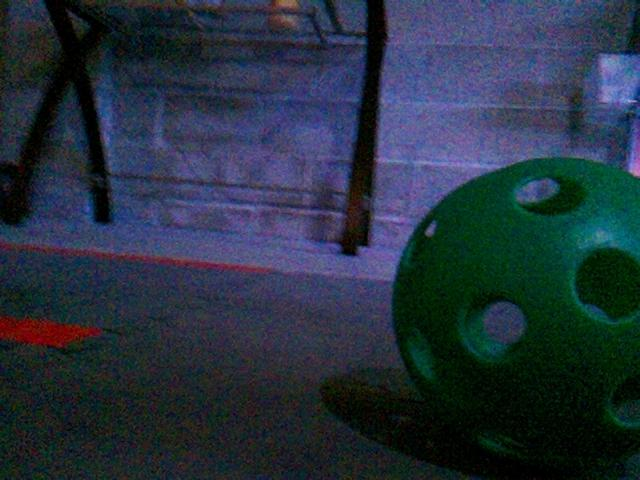Green: (388, 161, 640, 462)
